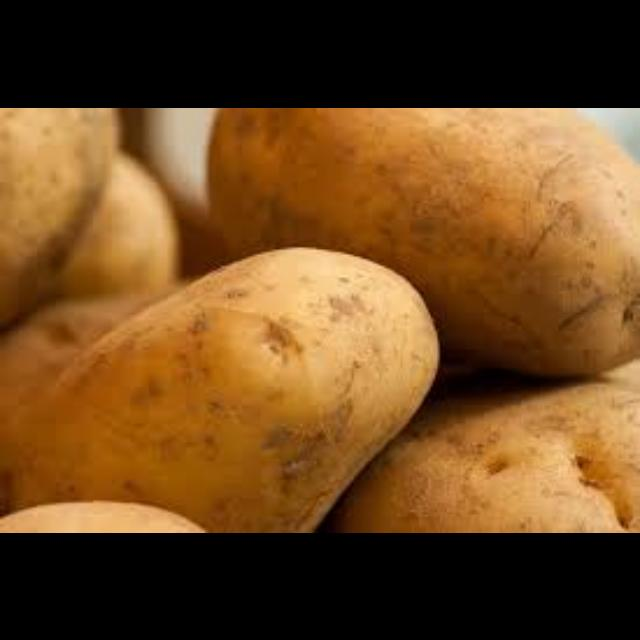Diseased-fungal potato: (4, 240, 440, 532)
